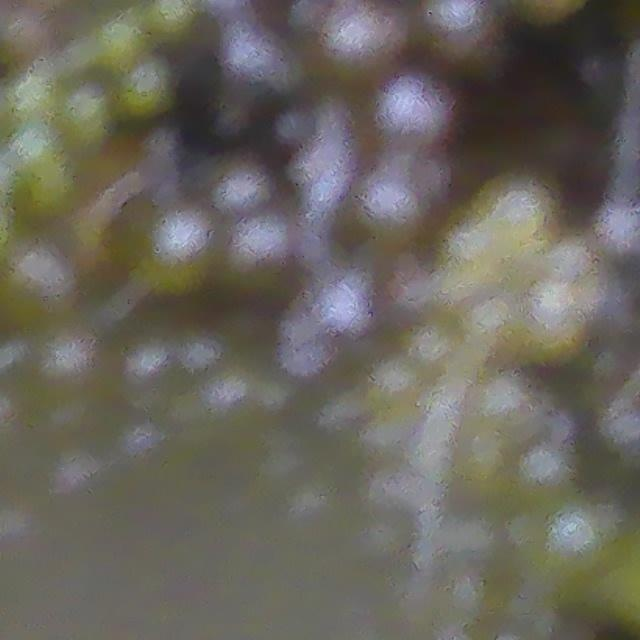SeaGrape: (376, 72, 450, 149), (325, 13, 393, 73), (430, 0, 490, 51)
